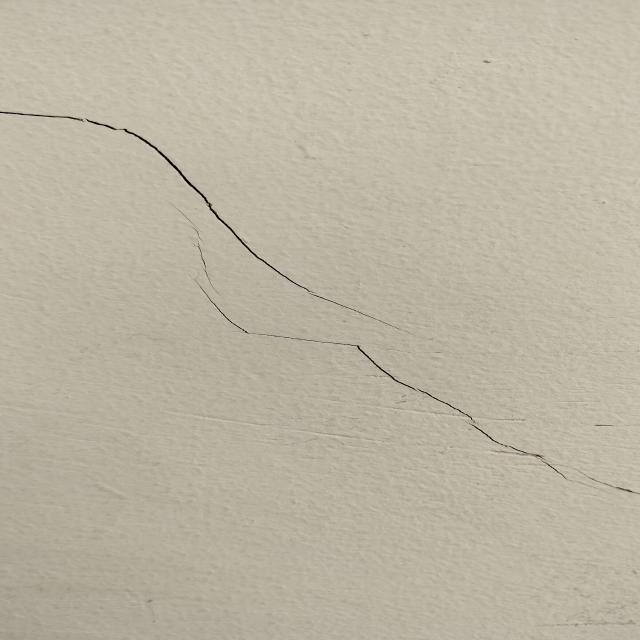Crack: (0, 107, 640, 501)
